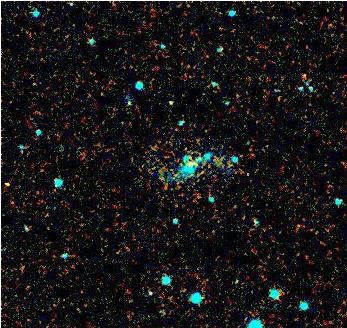star: (0, 166, 24, 196)
